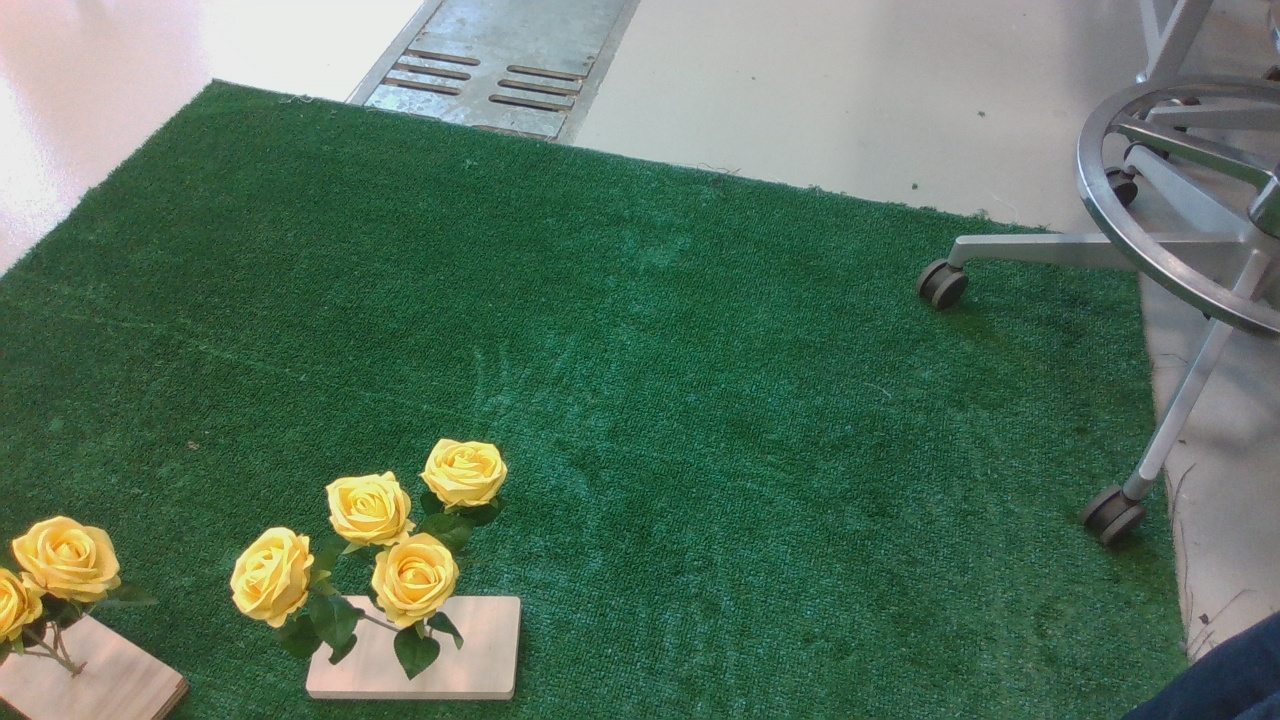rose: (228, 440, 520, 680), (3, 518, 139, 684)
